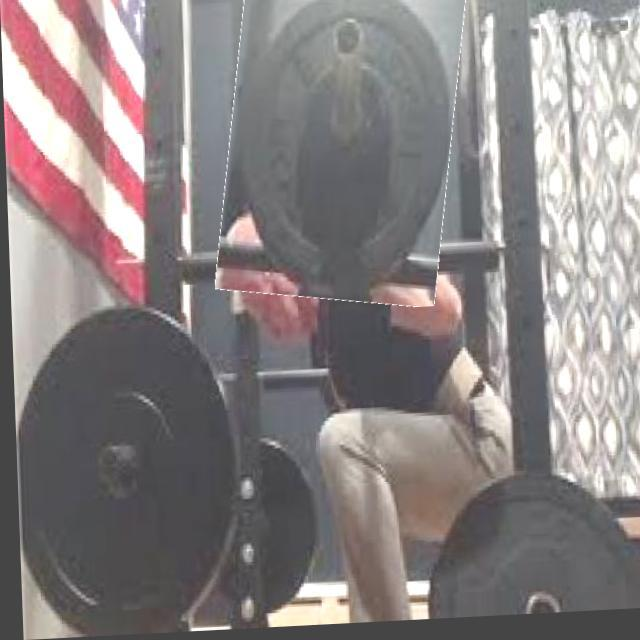barbell: (215, 1, 465, 313)
